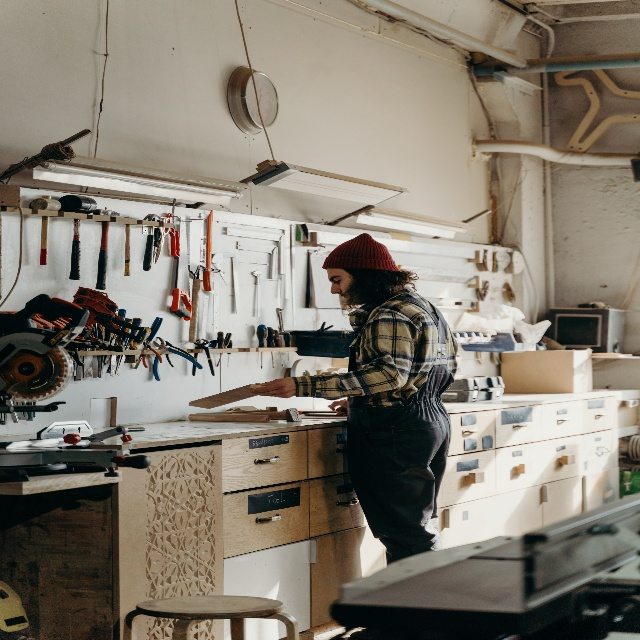Sin_guantes: (249, 376, 296, 398), (328, 400, 347, 415)
